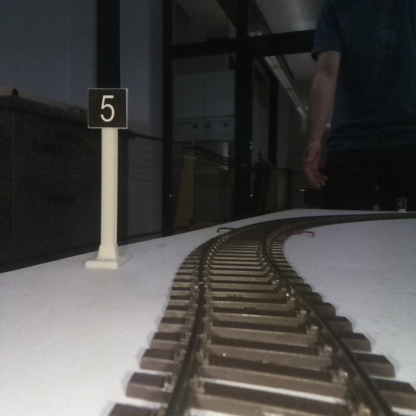black-info-5: (88, 89, 126, 267)
